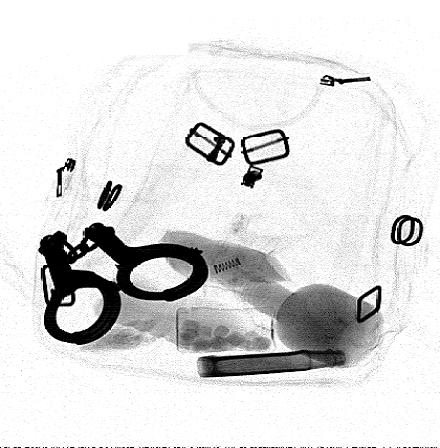HandCuffs: (37, 222, 209, 347)
